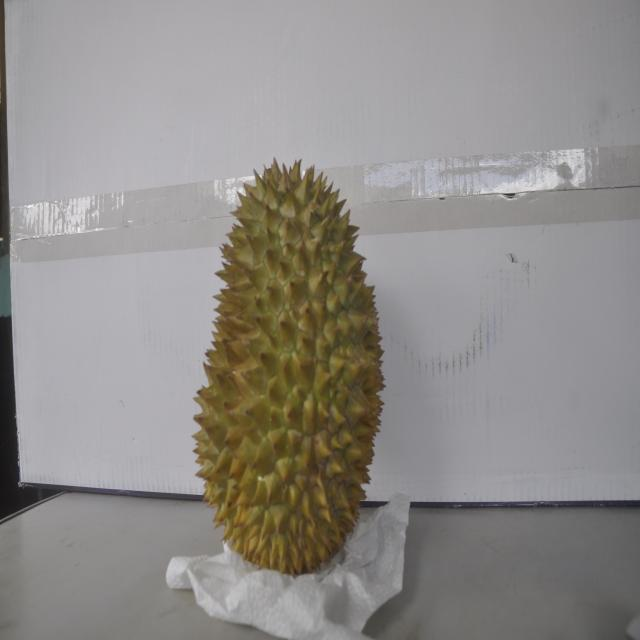mature: (190, 157, 388, 573)
